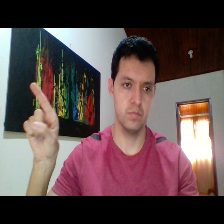2T: (19, 78, 70, 168)
